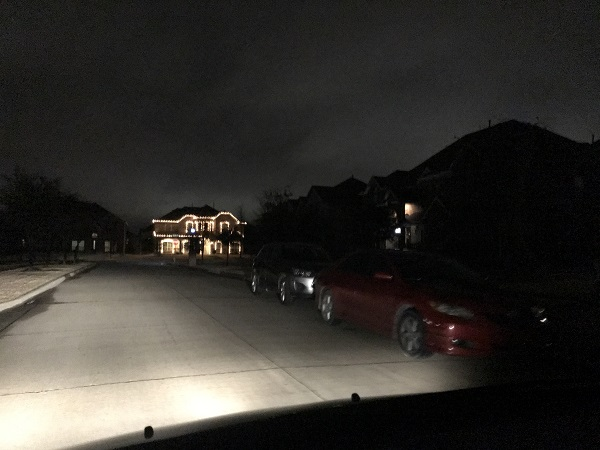car: (316, 250, 554, 361), (246, 247, 318, 302)
